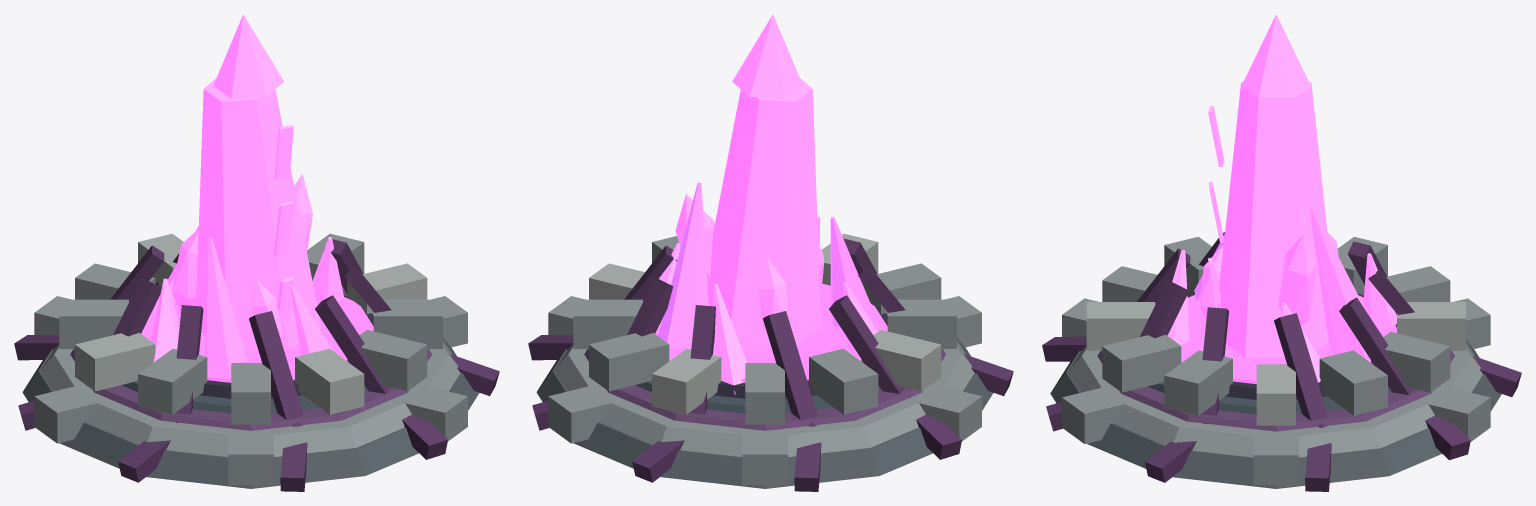
Rendered from wellspring_corrupted.glb.
3 views of the same model, side by side, from view 1: azimuth 30°, elevation 25°; view 2: azimuth 150°, elevation 25°; view 3: azimuth 270°, elevation 25° (orthographic).
Parts seen in each view (by area): view 1: Corrupted_Crystal_Body, Wellspring_State_Anchor_Middle.003, Wellspring_State_Anchor_Lower.003, Corrupted_Basin_Rim_7, Wellspring_State_Anchor_Inlay.003, Corrupted_Basin_Rim_10, Corrupted_Basin_Rim_8, Corrupted_Crystal_Tip, Corrupted_Crown_Spire_2, Corrupted_Basin_Rim_11, Corrupted_Basin_Rim_12, Corrupted_Basin_Rim_6 (+34 smaller); view 2: Corrupted_Crystal_Body, Wellspring_State_Anchor_Middle.003, Wellspring_State_Anchor_Lower.003, Corrupted_Crown_Spire_1, Corrupted_Basin_Rim_3, Wellspring_State_Anchor_Inlay.003, Corrupted_Basin_Rim_6, Corrupted_Basin_Rim_4, Corrupted_Crystal_Tip, Corrupted_Basin_Rim_7, Corrupted_Basin_Rim_8, Corrupted_Basin_Rim_2 (+28 smaller); view 3: Corrupted_Crystal_Body, Wellspring_State_Anchor_Middle.003, Wellspring_State_Anchor_Lower.003, Corrupted_Basin_Rim_11, Wellspring_State_Anchor_Inlay.003, Corrupted_Basin_Rim_2, Corrupted_Crown_Spire_1, Corrupted_Basin_Rim_12, Corrupted_Crystal_Tip, Corrupted_Basin_Rim_3, Corrupted_Basin_Rim_4, Corrupted_Basin_Rim_10 (+29 smaller).
Part boxes in pixels (box(x1,y1,x2,y2)): Corrupted_Crystal_Body: box(196, 78, 321, 350); Wellspring_State_Anchor_Middle.003: box(40, 341, 460, 457); Wellspring_State_Anchor_Lower.003: box(22, 337, 479, 488); Corrupted_Basin_Rim_7: box(75, 333, 155, 391); Wellspring_State_Anchor_Inlay.003: box(70, 289, 431, 430); Corrupted_Basin_Rim_10: box(295, 348, 364, 414); Corrupted_Basin_Rim_8: box(138, 348, 207, 414); Corrupted_Crystal_Tip: box(213, 14, 283, 98); Corrupted_Crown_Spire_2: box(205, 237, 247, 366); Corrupted_Basin_Rim_11: box(347, 330, 427, 391); Corrupted_Basin_Rim_12: box(373, 299, 442, 348); Corrupted_Basin_Rim_6: box(59, 299, 128, 348); Corrupted_Crystal_Body: box(707, 78, 820, 350); Wellspring_State_Anchor_Middle.003: box(554, 341, 974, 457); Wellspring_State_Anchor_Lower.003: box(536, 337, 993, 488); Corrupted_Crown_Spire_1: box(658, 182, 708, 348); Corrupted_Basin_Rim_3: box(589, 333, 669, 391); Wellspring_State_Anchor_Inlay.003: box(584, 349, 945, 430); Corrupted_Basin_Rim_6: box(809, 348, 878, 414); Corrupted_Basin_Rim_4: box(652, 348, 721, 414); Corrupted_Crystal_Tip: box(732, 14, 802, 98); Corrupted_Basin_Rim_7: box(861, 330, 941, 391); Corrupted_Basin_Rim_8: box(887, 299, 956, 348); Corrupted_Basin_Rim_2: box(573, 299, 642, 348); Corrupted_Crystal_Body: box(1217, 81, 1328, 357); Wellspring_State_Anchor_Middle.003: box(1068, 343, 1482, 457); Wellspring_State_Anchor_Lower.003: box(1050, 340, 1501, 488); Corrupted_Basin_Rim_11: box(1102, 334, 1181, 392); Wellspring_State_Anchor_Inlay.003: box(1097, 350, 1454, 431); Corrupted_Basin_Rim_2: box(1319, 350, 1387, 415); Corrupted_Crown_Spire_1: box(1309, 207, 1367, 356); Corrupted_Basin_Rim_12: box(1164, 350, 1232, 415); Corrupted_Crystal_Tip: box(1241, 14, 1311, 97); Corrupted_Basin_Rim_3: box(1371, 332, 1450, 392); Corrupted_Basin_Rim_4: box(1397, 302, 1465, 350); Corrupted_Basin_Rim_10: box(1086, 302, 1155, 350).
Size of the model in its own units: 4.92 by 4.22 by 4.88.
